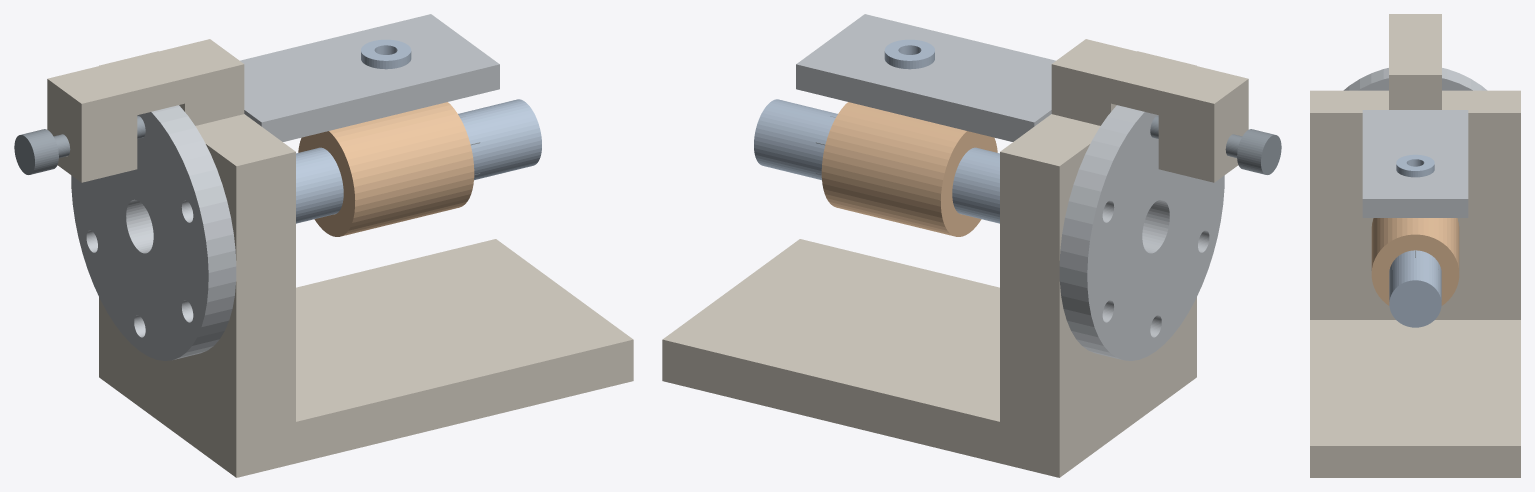
The picture shows the model from 3 angles, left to right: view 1: azimuth 30°, elevation 25°; view 2: azimuth 150°, elevation 25°; view 3: azimuth 270°, elevation 25°; orthographic projection. The views are drawn at different scales.
Visible parts, largest first — view 1: p01, p03, p07, p04, p06, p02, p05, p08; view 2: p01, p03, p07, p04, p06, p02, p05, p08; view 3: p01, p07, p04, p06, p02, p03, p08.
Part boxes in pixels (x1,y1,x2,y2): p01: (99,51,633,477); p03: (71,105,236,360); p07: (240,14,499,141); p04: (47,39,244,182); p06: (298,102,474,236); p02: (296,99,541,223); p05: (14,116,145,174); p08: (361,39,411,69); p01: (662,51,1196,477); p03: (1059,105,1224,360); p07: (796,14,1055,141); p04: (1051,39,1248,182); p06: (821,102,997,236); p02: (754,99,999,223); p05: (1150,116,1281,174); p08: (884,39,934,69); p01: (1310,90,1520,477); p07: (1362,110,1468,217); p04: (1389,14,1441,109); p06: (1371,218,1459,305); p02: (1389,250,1441,327); p03: (1343,68,1487,90); p08: (1396,154,1434,177).
Size of the model in its own units: 0.272 by 0.174 by 0.12.
